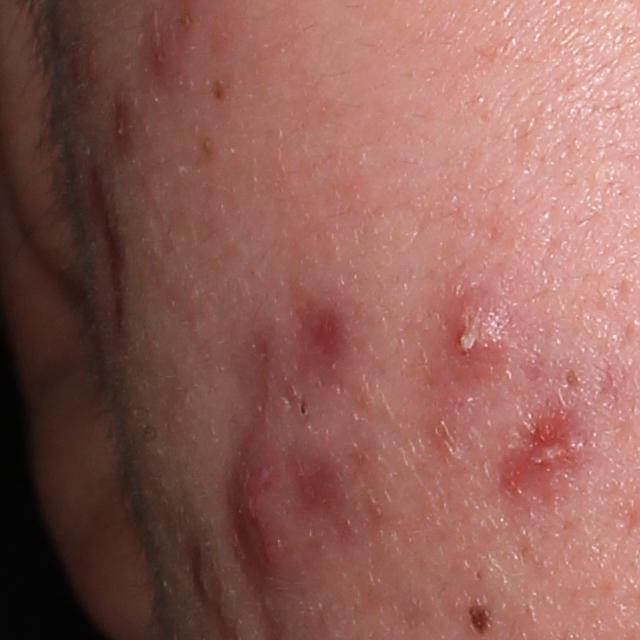nevus: (462, 598, 495, 637)
nodule: (226, 428, 297, 596)
papule: (429, 284, 521, 395), (496, 404, 586, 513)
